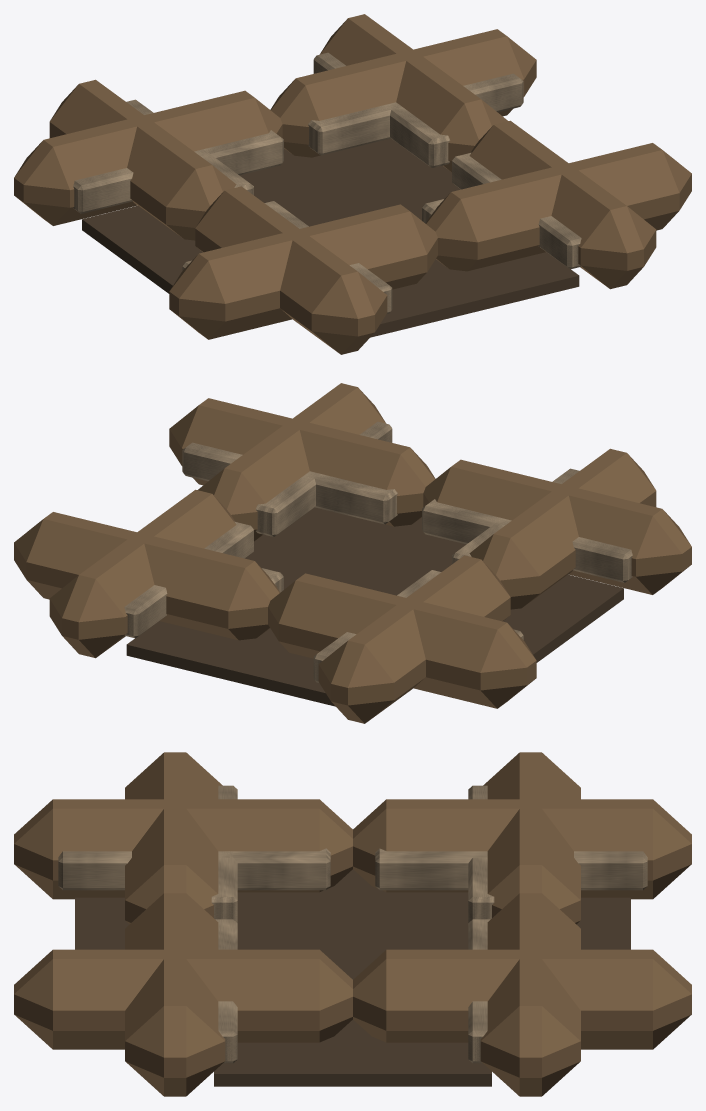
Rendered from trench_crossing.glb.
3 renders of one model, top to bottom at view 1: azimuth 30°, elevation 25°; view 2: azimuth 150°, elevation 25°; view 3: azimuth 270°, elevation 25°, orthographic. The views are drawn at different scales.
Parts seen in each view (by area): view 1: trench_crossing__Earth_revetment, trench_crossing__Trench_dark_earth, trench_crossing__Timber_worn_edges; view 2: trench_crossing__Earth_revetment, trench_crossing__Trench_dark_earth, trench_crossing__Timber_worn_edges; view 3: trench_crossing__Earth_revetment, trench_crossing__Trench_dark_earth, trench_crossing__Timber_worn_edges.
Part boxes in pixels (x1=…): trench_crossing__Earth_revetment: x1=14, y1=14, x2=691, y2=354; trench_crossing__Trench_dark_earth: x1=82, y1=138, x2=579, y2=337; trench_crossing__Timber_worn_edges: x1=73, y1=52, x2=581, y2=313; trench_crossing__Earth_revetment: x1=14, y1=383, x2=691, y2=723; trench_crossing__Trench_dark_earth: x1=126, y1=507, x2=623, y2=706; trench_crossing__Timber_worn_edges: x1=124, y1=421, x2=632, y2=682; trench_crossing__Earth_revetment: x1=14, y1=752, x2=691, y2=1096; trench_crossing__Trench_dark_earth: x1=75, y1=869, x2=630, y2=1086; trench_crossing__Timber_worn_edges: x1=58, y1=785, x2=647, y2=1063.
Size of the model in its own units: 1.22 by 0.18 by 1.22.
Materials: 3 (1 with a texture image).
